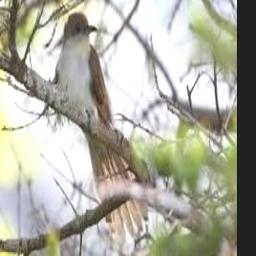Cuckoo: (54, 11, 149, 240)
